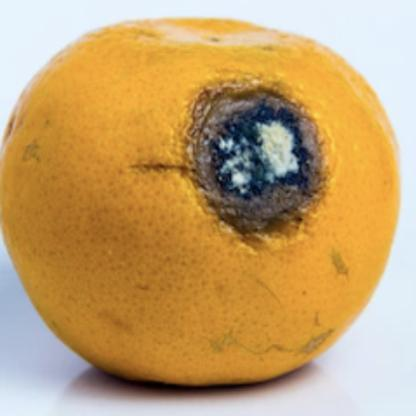rotten: (3, 18, 399, 382)
